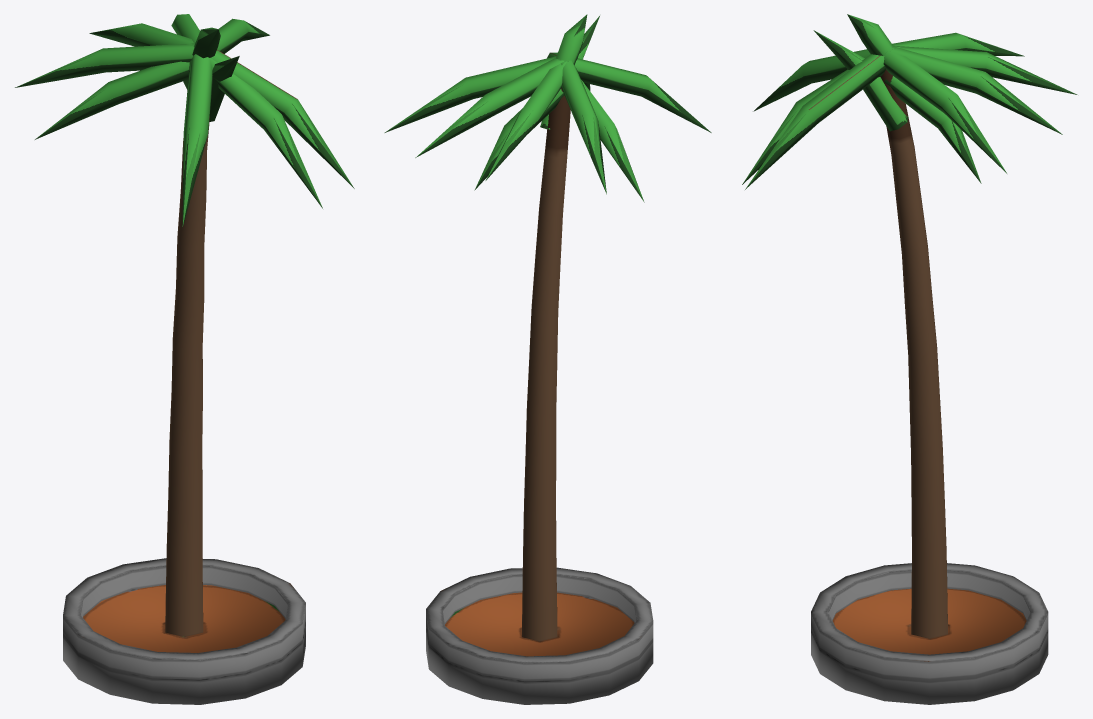
The model's file is decor_Tree.fbx.
The picture shows the model from 3 angles, left to right: view 1: azimuth 30°, elevation 25°; view 2: azimuth 150°, elevation 25°; view 3: azimuth 270°, elevation 25°; orthographic projection. The views are drawn at different scales.
Visible parts, largest first — view 1: Tree; view 2: Tree; view 3: Tree.
Part boxes in pixels (x1,y1,x2,y2): Tree: (15, 14, 354, 704); Tree: (384, 14, 711, 704); Tree: (742, 14, 1077, 704).
Size of the model in its own units: 1215 by 2960 by 1421.
Materials: 1 (1 with a texture image).
